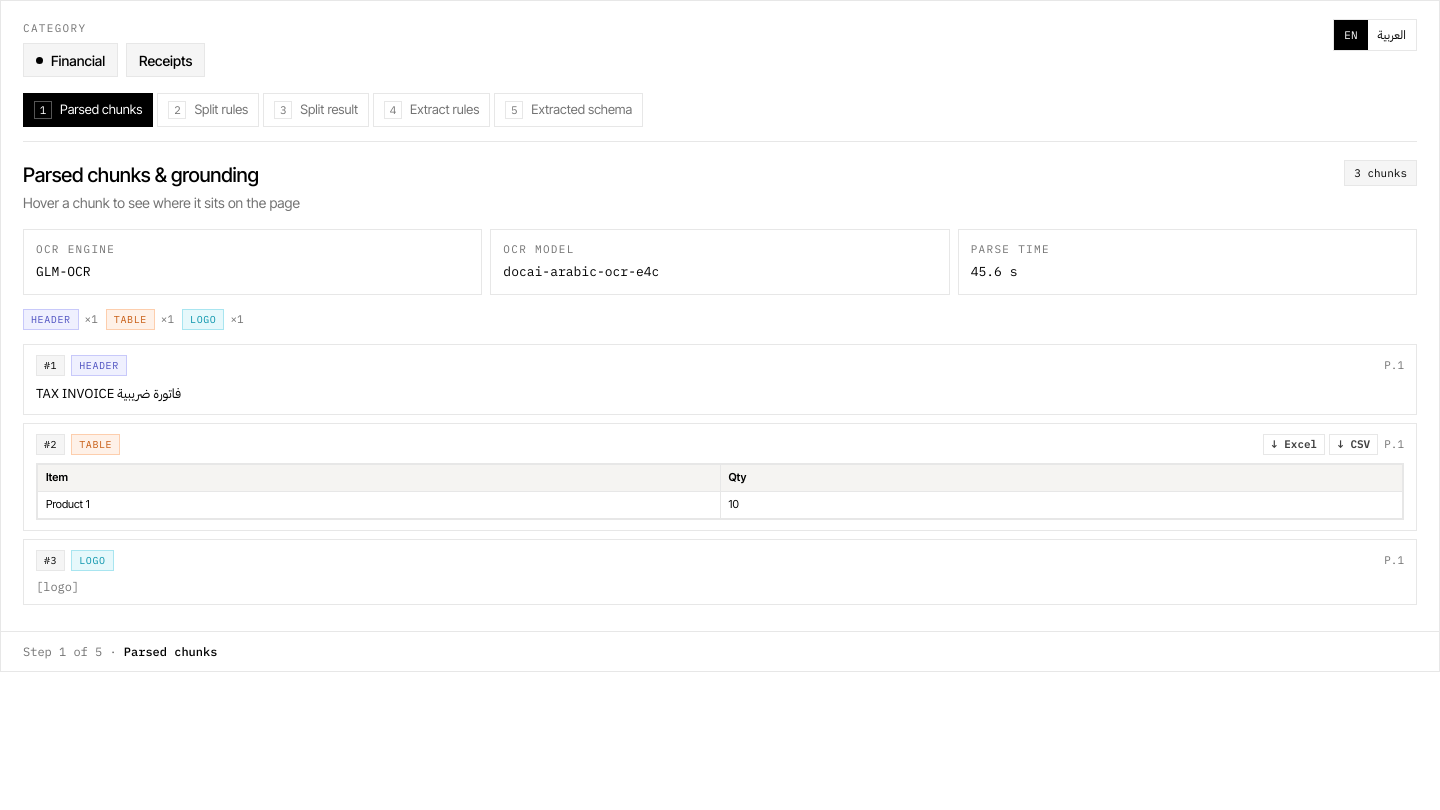
Test: table cells are clickable and ground the cell on the page, like DocAI
What coordinates should you click on to do the following:
click the button "Product 1"
I would click on:
 (68, 504)
Its box is [38, 492, 720, 518].
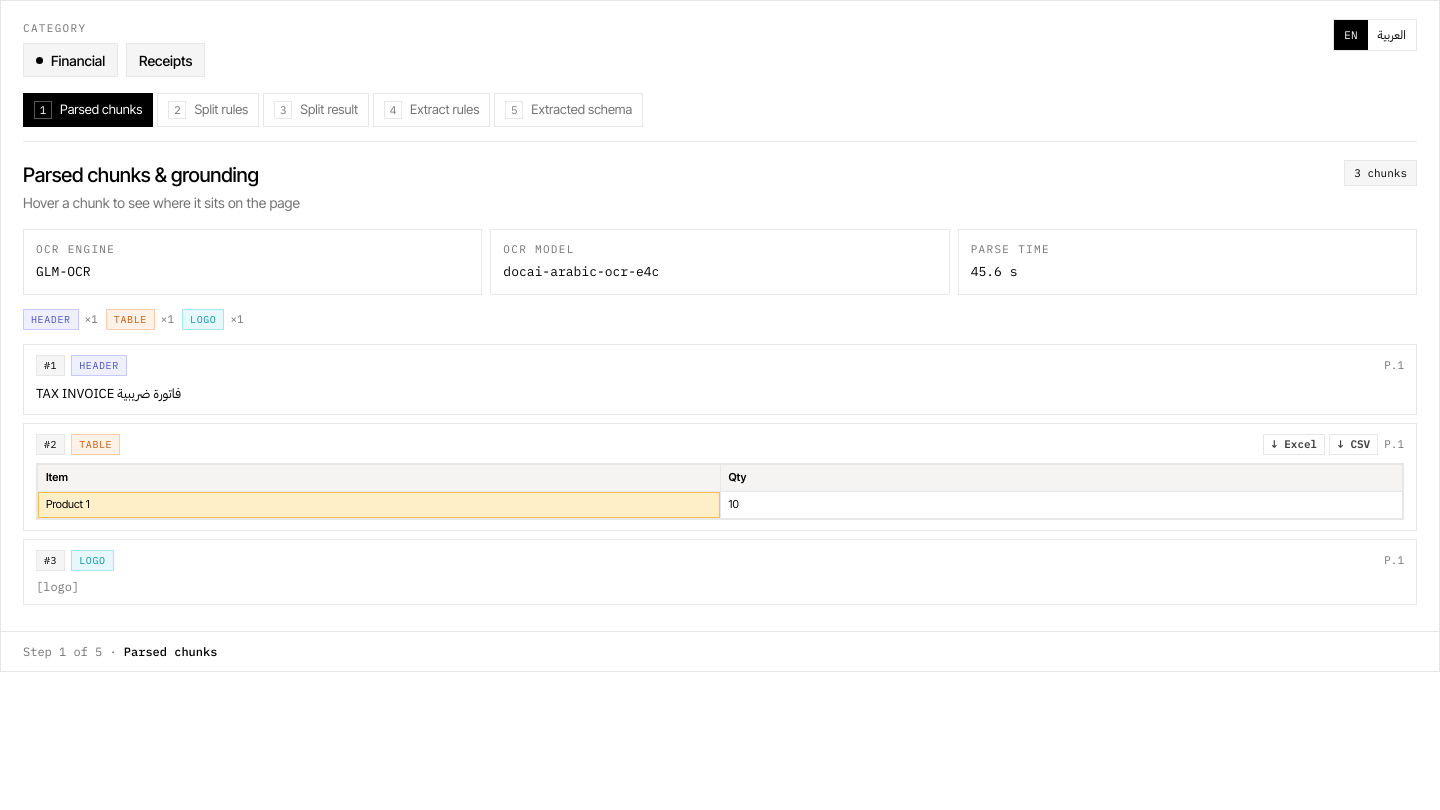
Result: the button "Product 1" is pressed
What coordinates should you click on to do the following:
click the button "Product 1"
I would click on:
 (68, 504)
Its box is [38, 492, 720, 518].
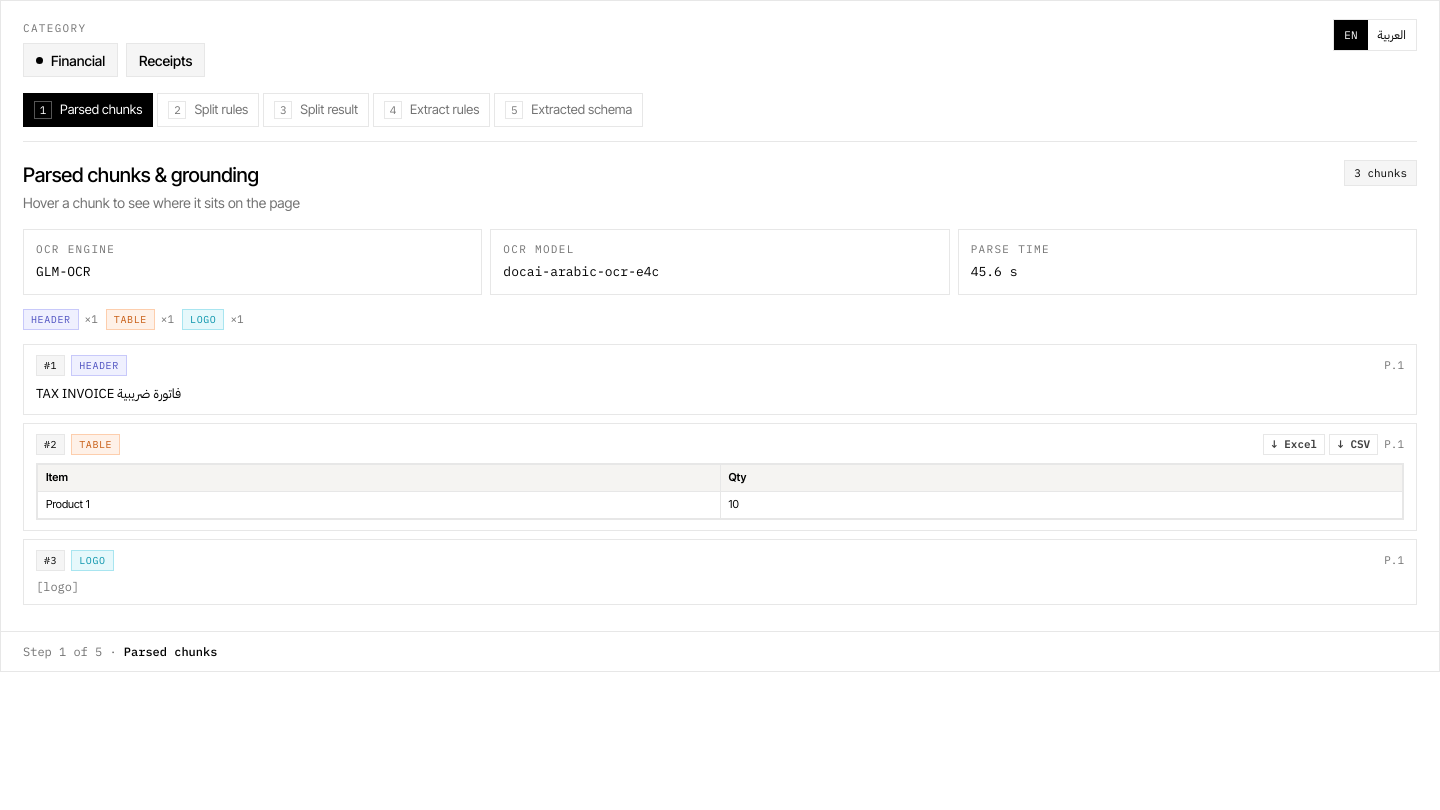
Expected: the column heading "Item" is shown, [38, 464, 720, 491]
Result: the button "Product 1" is not pressed at [38, 492, 720, 518]
